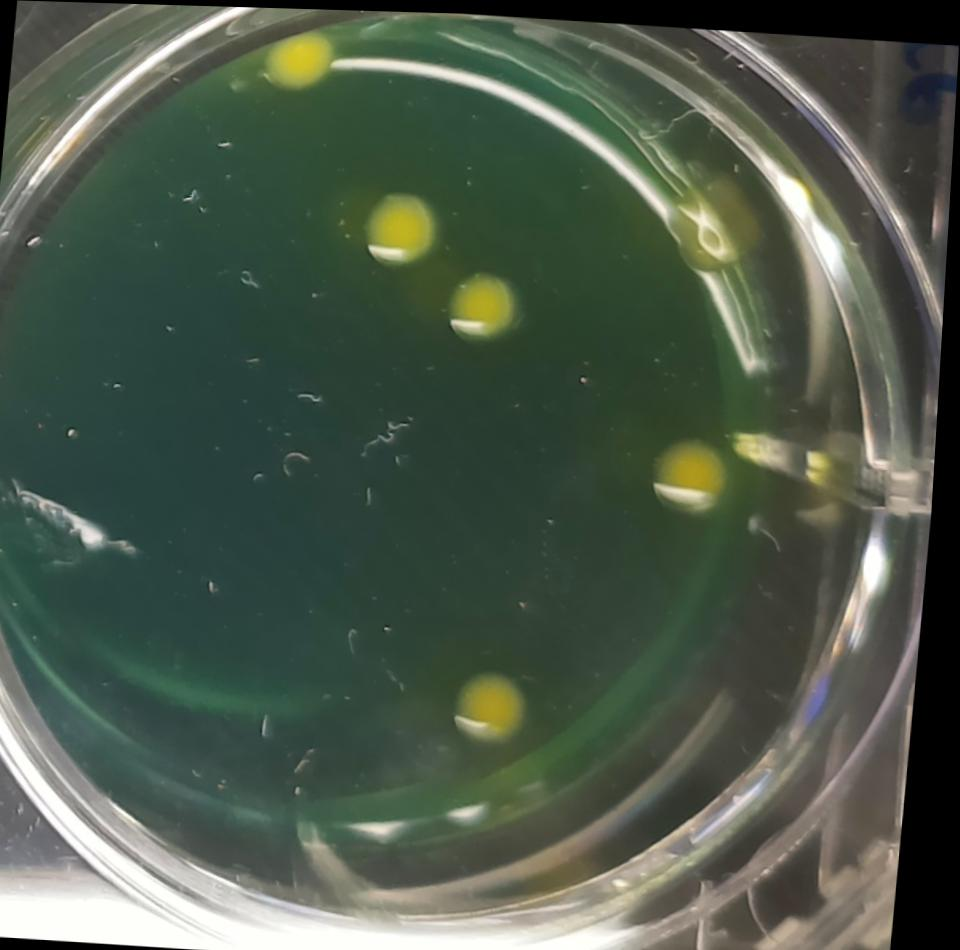vangil: (446, 647, 544, 756), (649, 422, 753, 519), (246, 12, 345, 104), (355, 183, 442, 270), (443, 263, 531, 343)
